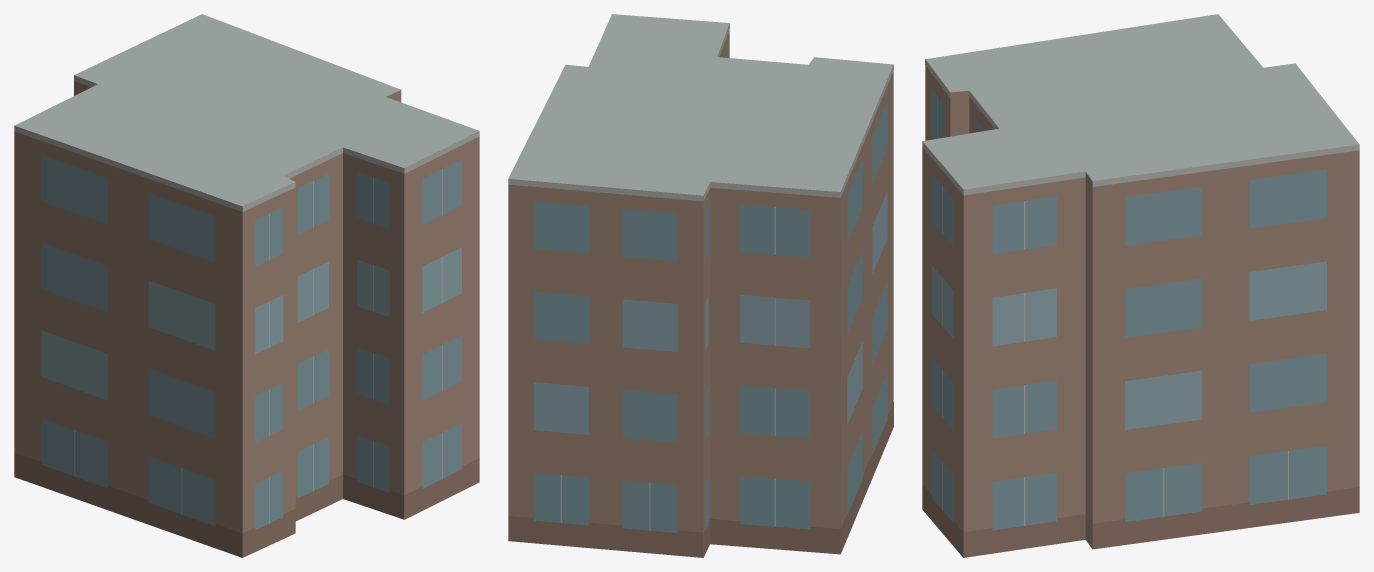
File: survey-upis-33032750.glb
3 views of the same model, side by side, from view 1: azimuth 30°, elevation 25°; view 2: azimuth 150°, elevation 25°; view 3: azimuth 270°, elevation 25° (orthographic). The views are drawn at different scales.
Parts seen in each view (by area): view 1: survey-upis-33032750.tmp; view 2: survey-upis-33032750.tmp; view 3: survey-upis-33032750.tmp.
Boxes of the visible parts, x1=… form: survey-upis-33032750.tmp: x1=14, y1=14, x2=479, y2=557; survey-upis-33032750.tmp: x1=508, y1=14, x2=893, y2=557; survey-upis-33032750.tmp: x1=922, y1=14, x2=1359, y2=557.
Size of the model in its own units: 15.66 by 15.3 by 16.47.
